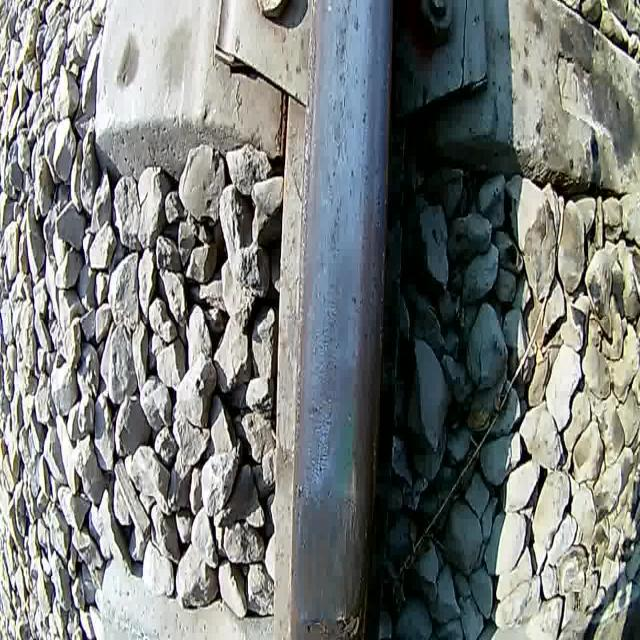Spallings: (296, 602, 366, 640)
Squats: (288, 486, 370, 612)
